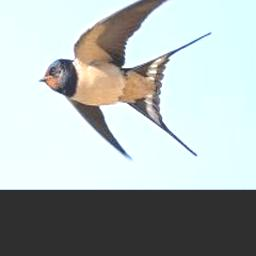Swallow: (39, 0, 211, 160)
